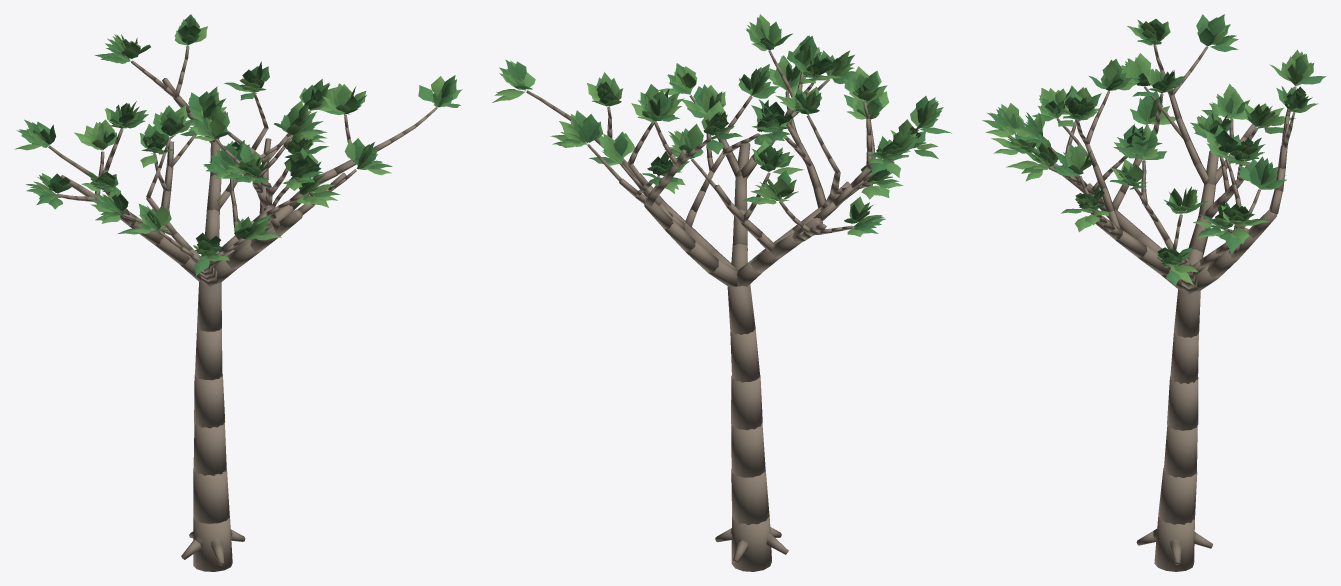
The model's file is tree_broadleaf_a.f357dfc9.glb.
The picture shows the model from 3 angles, left to right: view 1: azimuth 30°, elevation 25°; view 2: azimuth 150°, elevation 25°; view 3: azimuth 270°, elevation 25°; orthographic projection. The views are drawn at different scales.
Parts seen in each view (by area): view 1: tree_broadleaf_a; view 2: tree_broadleaf_a; view 3: tree_broadleaf_a.
Part boxes in pixels (left/top/right/bottom): tree_broadleaf_a: left=14, top=14, right=462, bottom=571; tree_broadleaf_a: left=492, top=14, right=951, bottom=571; tree_broadleaf_a: left=982, top=14, right=1326, bottom=571.
Size of the model in its own units: 10.29 by 11.6 by 7.28.
